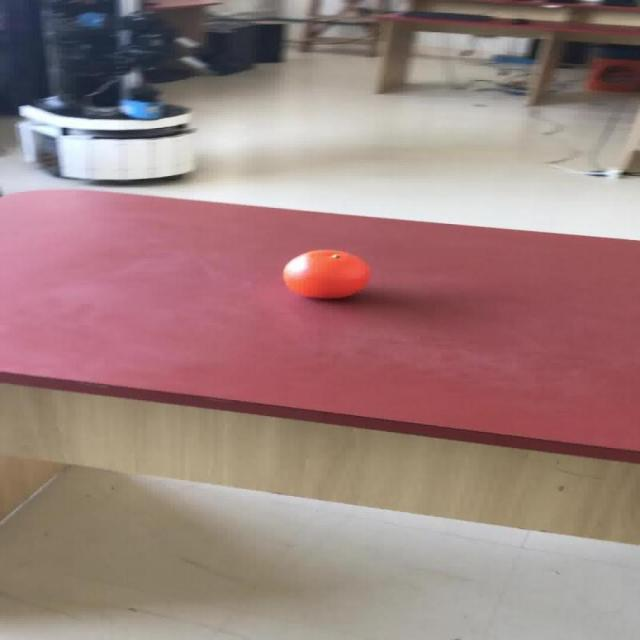Orange: (281, 249, 370, 299)
